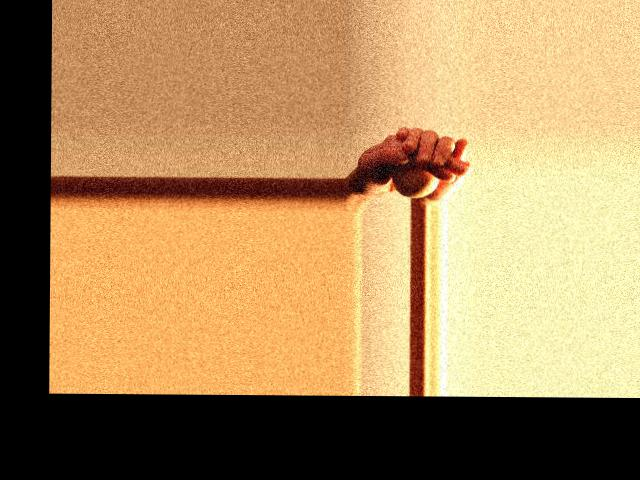egg: (391, 165, 438, 198)
